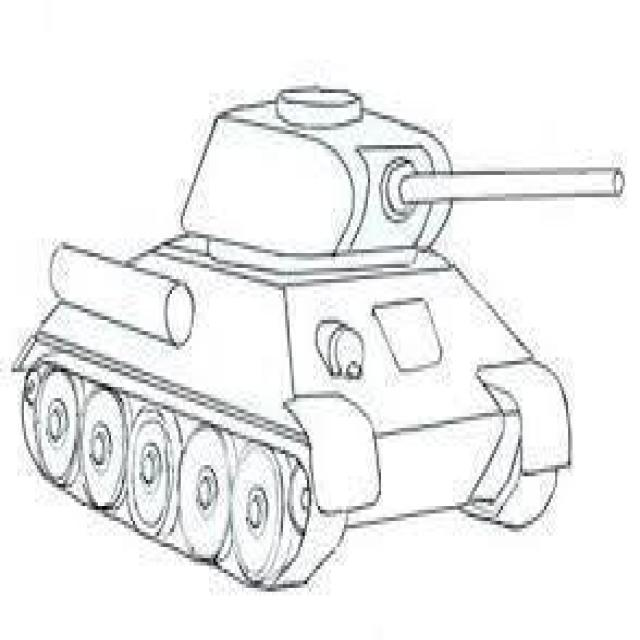Tanks: (13, 59, 575, 603)
